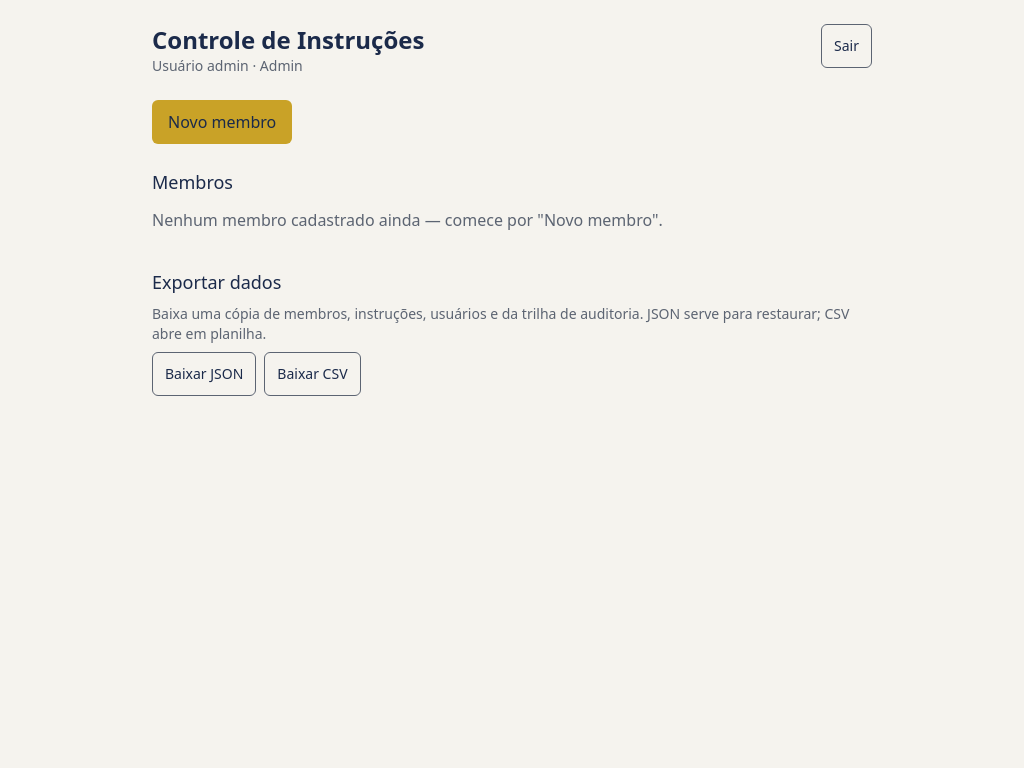
DashboardPage › cadastra um membro e ele aparece na lista
Click the button "Novo membro" at (222, 122), box x1=152 y1=100 x2=292 y2=144
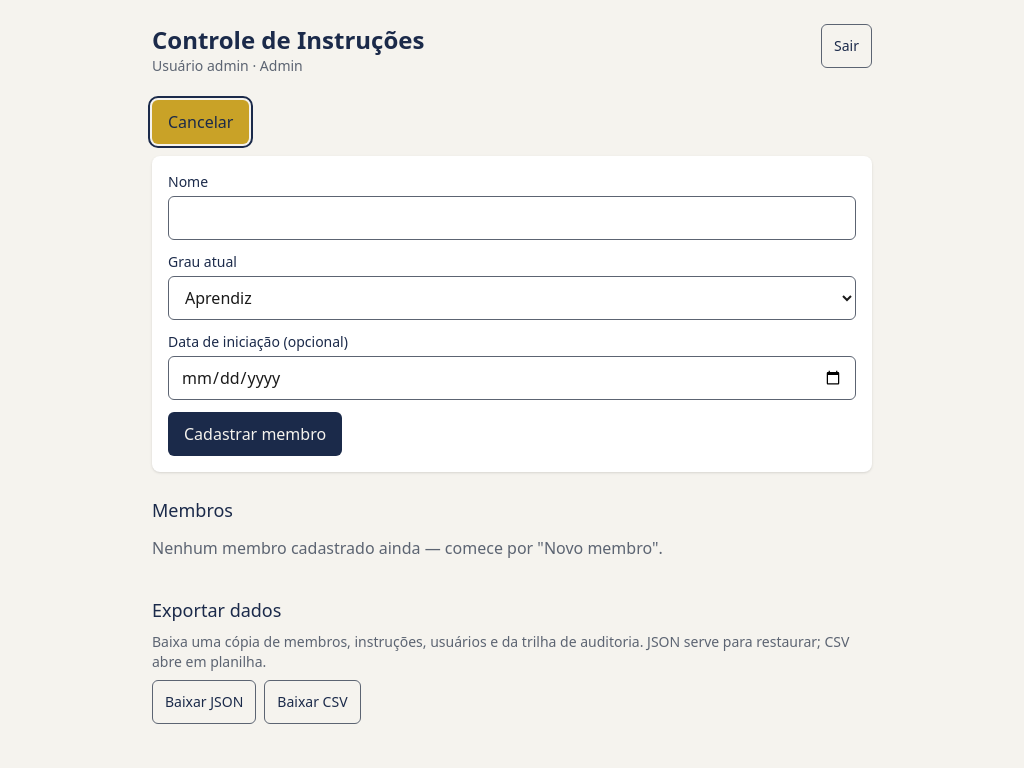
Type "Antônio Carlos" into the field labelled "Nome" at (512, 218), box x1=168 y1=196 x2=856 y2=240
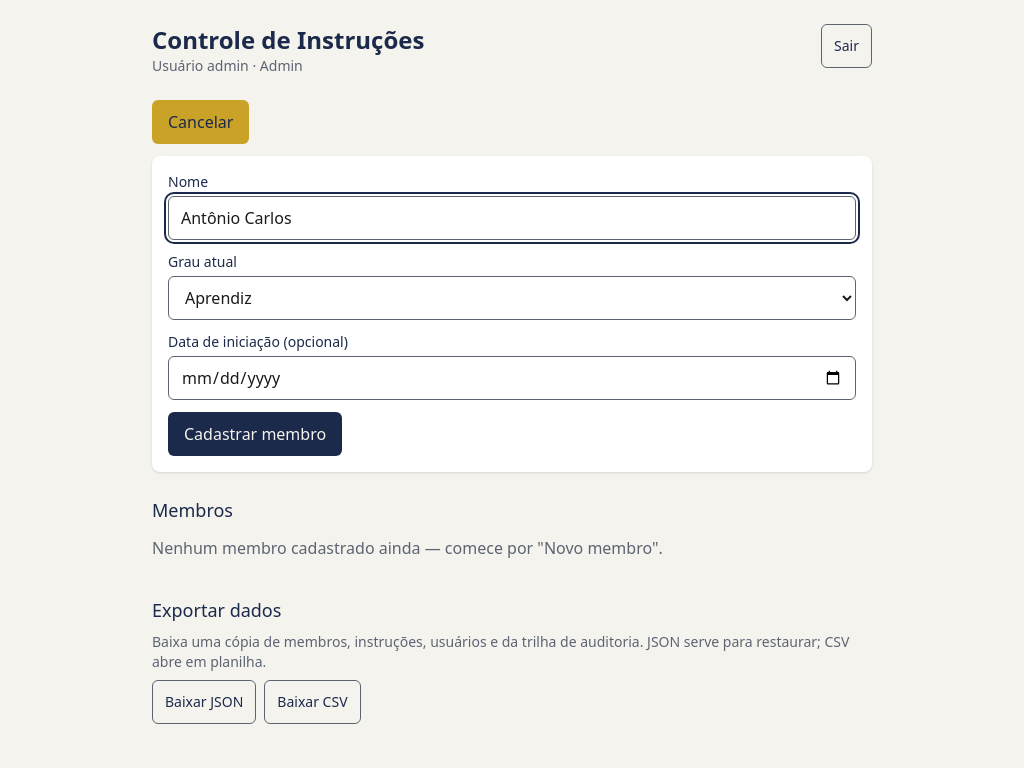
Click the button "Cadastrar membro" at (255, 434), box x1=168 y1=412 x2=342 y2=456
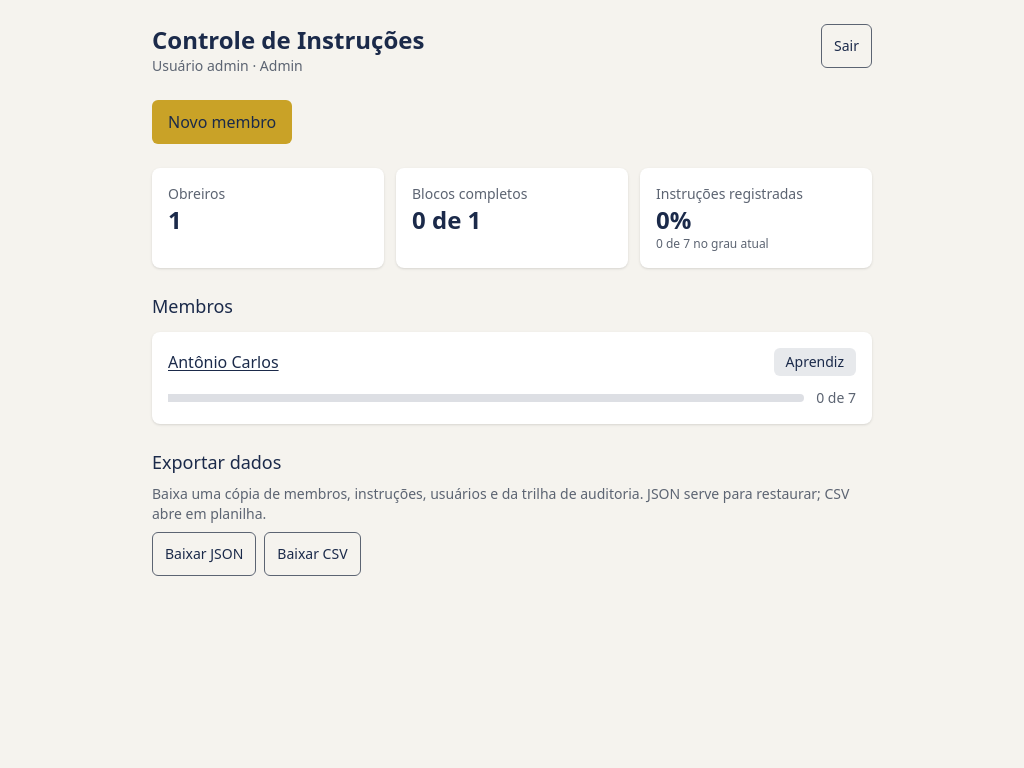
expect the link "Antônio Carlos" is shown: met, box x1=168 y1=350 x2=279 y2=374
